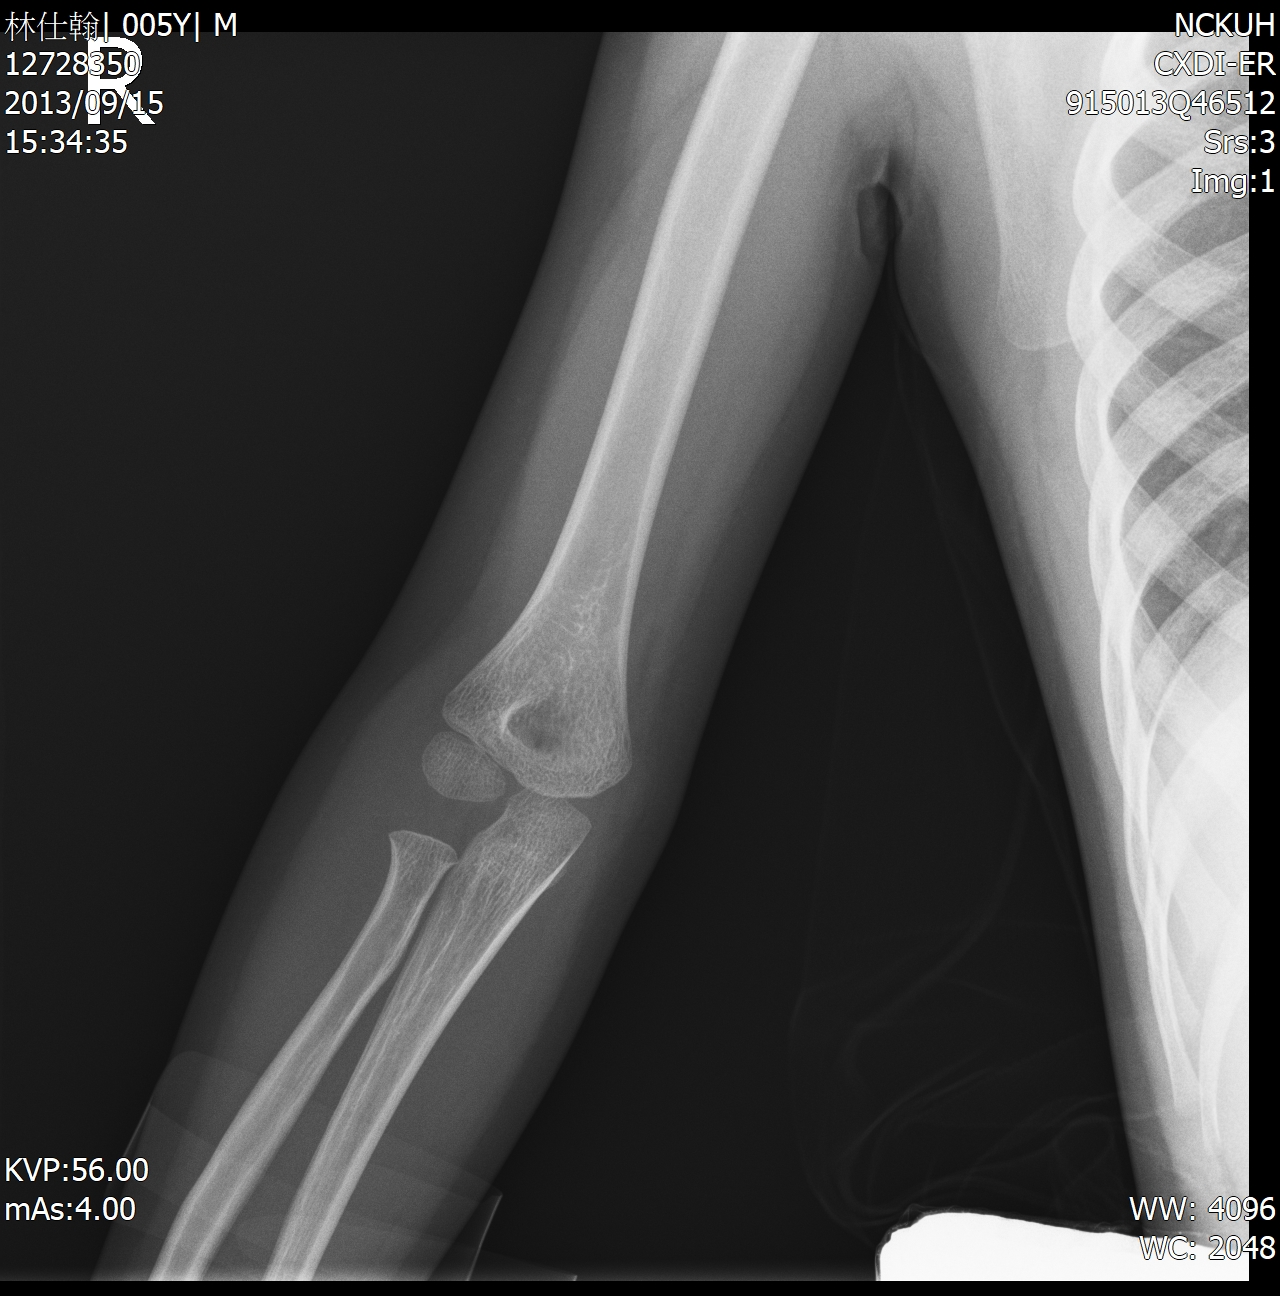Normal: (285, 571, 703, 1004)
